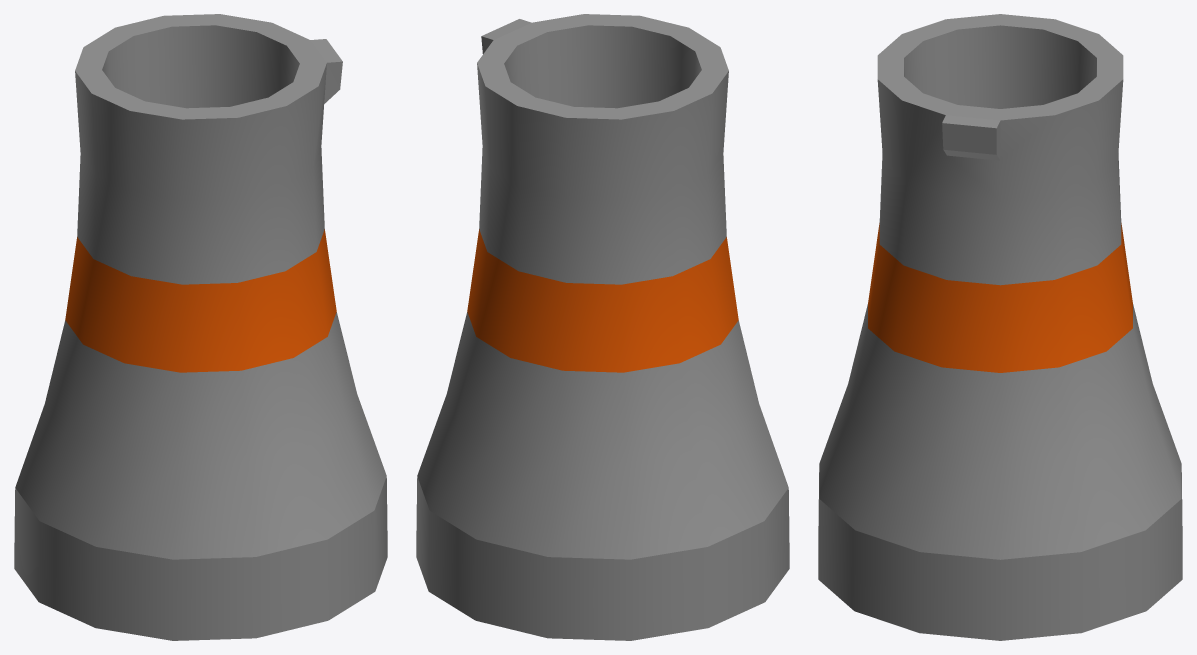
File: NuclearTower.FBX
3 views of the same model, side by side, from view 1: azimuth 30°, elevation 25°; view 2: azimuth 150°, elevation 25°; view 3: azimuth 270°, elevation 25° (orthographic).
Parts seen in each view (by area): view 1: NuclearTower; view 2: NuclearTower; view 3: NuclearTower.
Part boxes in pixels (left/top/right/bottom): NuclearTower: left=14, top=14, right=387, bottom=640; NuclearTower: left=416, top=14, right=789, bottom=640; NuclearTower: left=818, top=14, right=1182, bottom=640.
Size of the model in its own units: 17.38 by 25.38 by 16.95.
